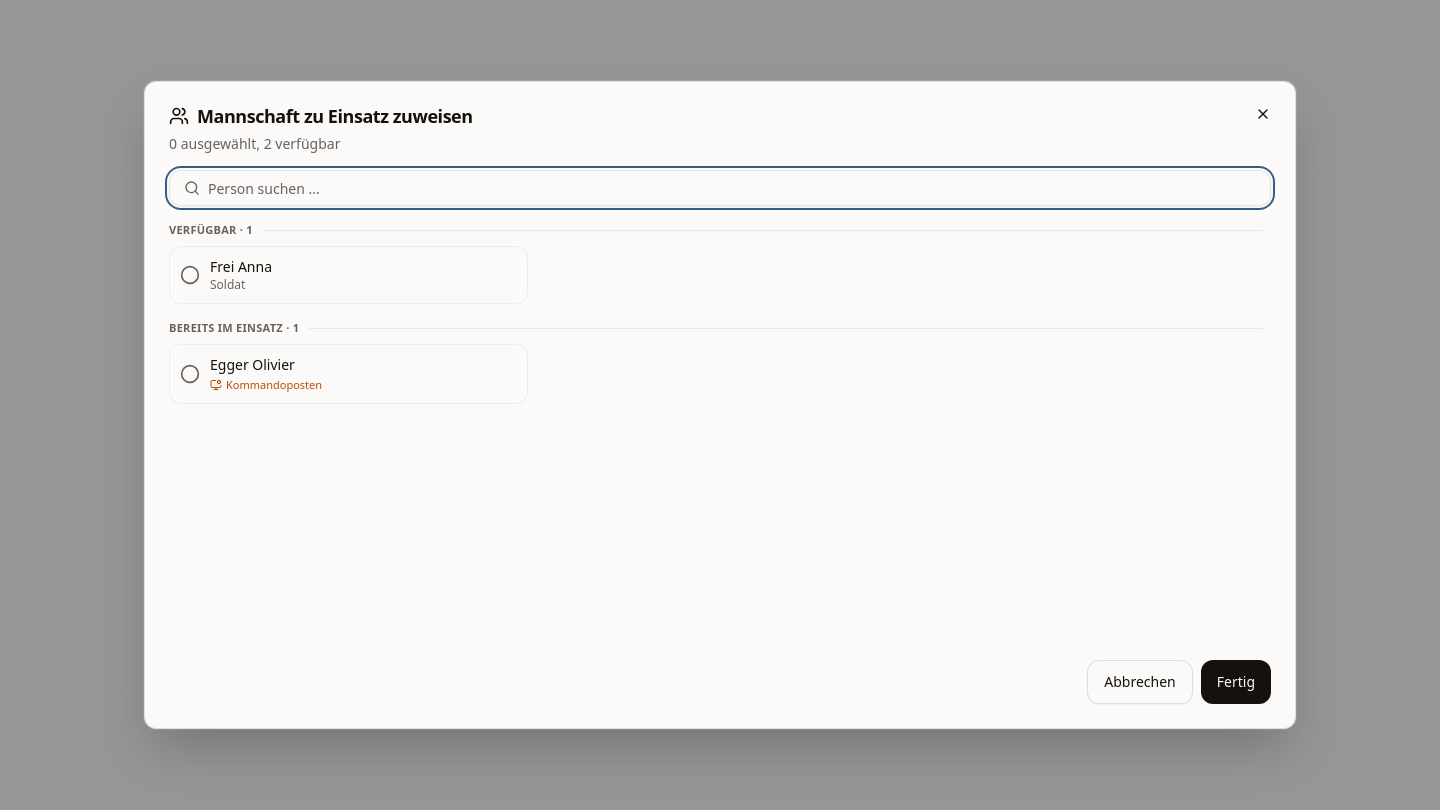
Test: special functions in the crew list › finds a person by their special function in the search
The image size is (1440, 810).
Type "kommandoposten" into the field with placeholder "Person suchen …". click: (720,188)
box: [169,170,1271,206]
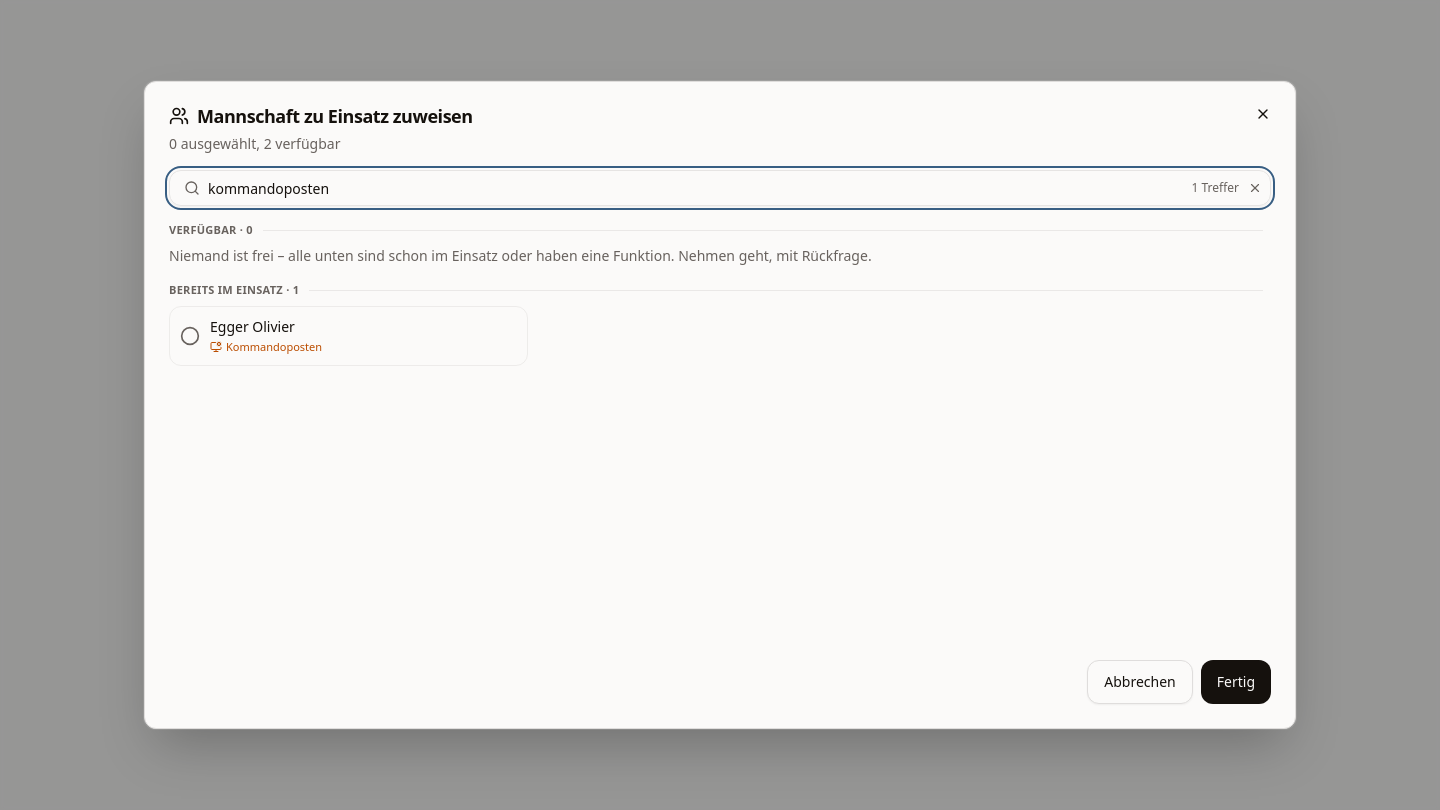
Expected: the button "Egger Olivier Kommandoposten" is shown, [169,306,528,366]
Now the button "Frei Anna" is gone
